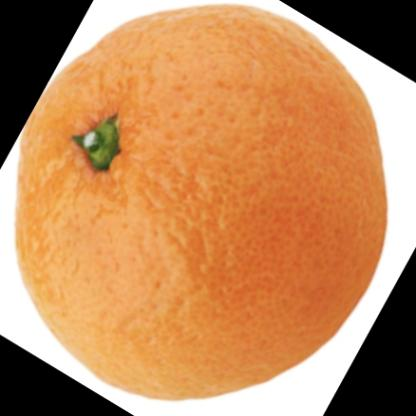fresh: (17, 6, 389, 403)
